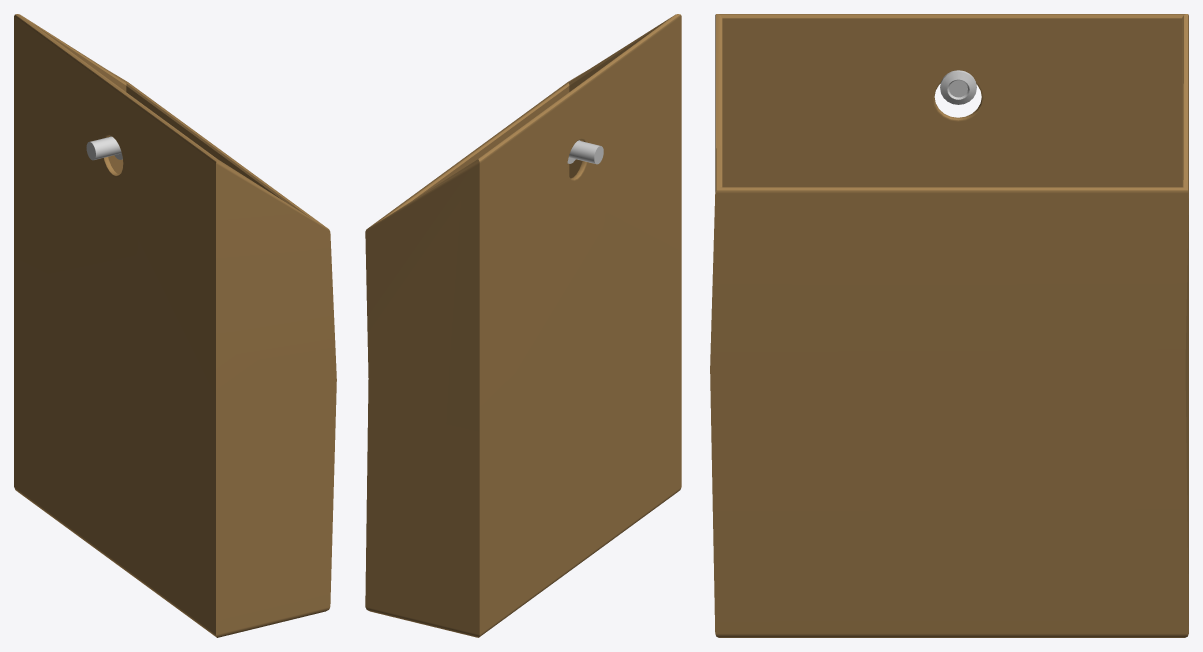
File: portadocumento.fbx
The picture shows the model from 3 angles, left to right: view 1: azimuth 30°, elevation 25°; view 2: azimuth 150°, elevation 25°; view 3: azimuth 270°, elevation 25°; orthographic projection. The views are drawn at different scales.
Parts seen in each view (by area): view 1: polySurfaceShape1; view 2: polySurfaceShape1; view 3: polySurfaceShape1.
Part boxes in pixels (x1,y1,x2,y2): polySurfaceShape1: (14,14,336,637); polySurfaceShape1: (365,14,681,637); polySurfaceShape1: (710,14,1188,637).
Size of the model in its own units: 2.67 by 8.76 by 6.76.
